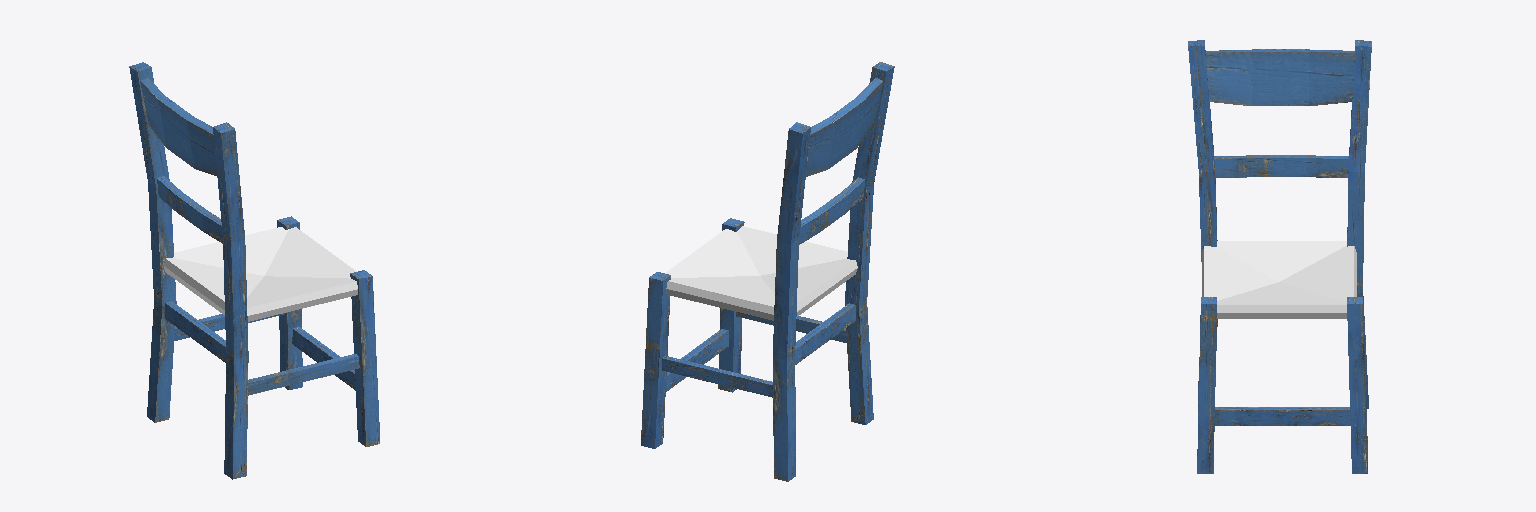
3 renders of one model, left to right at view 1: azimuth 30°, elevation 25°; view 2: azimuth 150°, elevation 25°; view 3: azimuth 270°, elevation 25°, orthographic.
Visible parts, largest first — view 1: Box03, OilTank01; view 2: Box03, OilTank01; view 3: Box03, OilTank01.
Boxes of the visible parts, x1=… form: Box03: x1=129, y1=62, x2=379, y2=479; OilTank01: x1=164, y1=227, x2=357, y2=321; Box03: x1=641, y1=62, x2=894, y2=481; OilTank01: x1=665, y1=226, x2=857, y2=320; Box03: x1=1188, y1=40, x2=1371, y2=473; OilTank01: x1=1202, y1=241, x2=1356, y2=318.
Bounding box in the file's own units: 0.466 × 0.9529 × 0.4463.
2 materials, 1 textured.